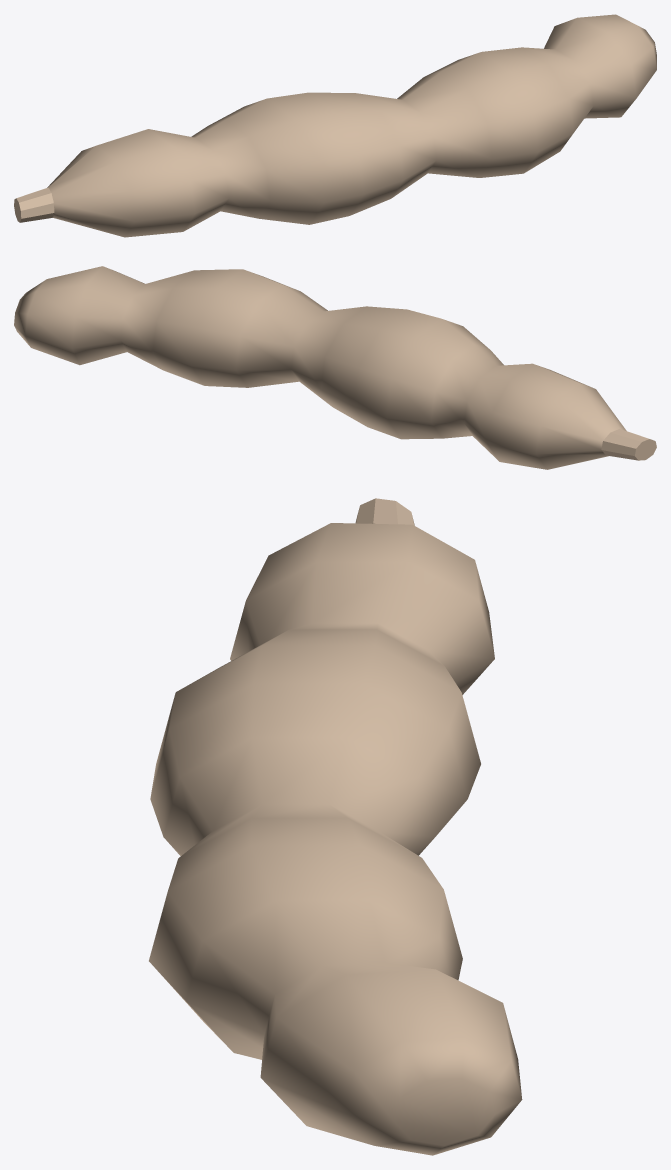
Rendered from tamerend.fbx.
The picture shows the model from 3 angles, top to bottom: view 1: azimuth 30°, elevation 25°; view 2: azimuth 150°, elevation 25°; view 3: azimuth 270°, elevation 25°; orthographic projection. The views are drawn at different scales.
Parts seen in each view (by area): view 1: tamerend; view 2: tamerend; view 3: tamerend.
Part boxes in pixels (x1,y1,x2,y2): tamerend: [14, 14, 656, 237]; tamerend: [14, 266, 656, 469]; tamerend: [149, 498, 522, 1155].
Bounding box in the file's own units: 1172 × 188 × 308.
